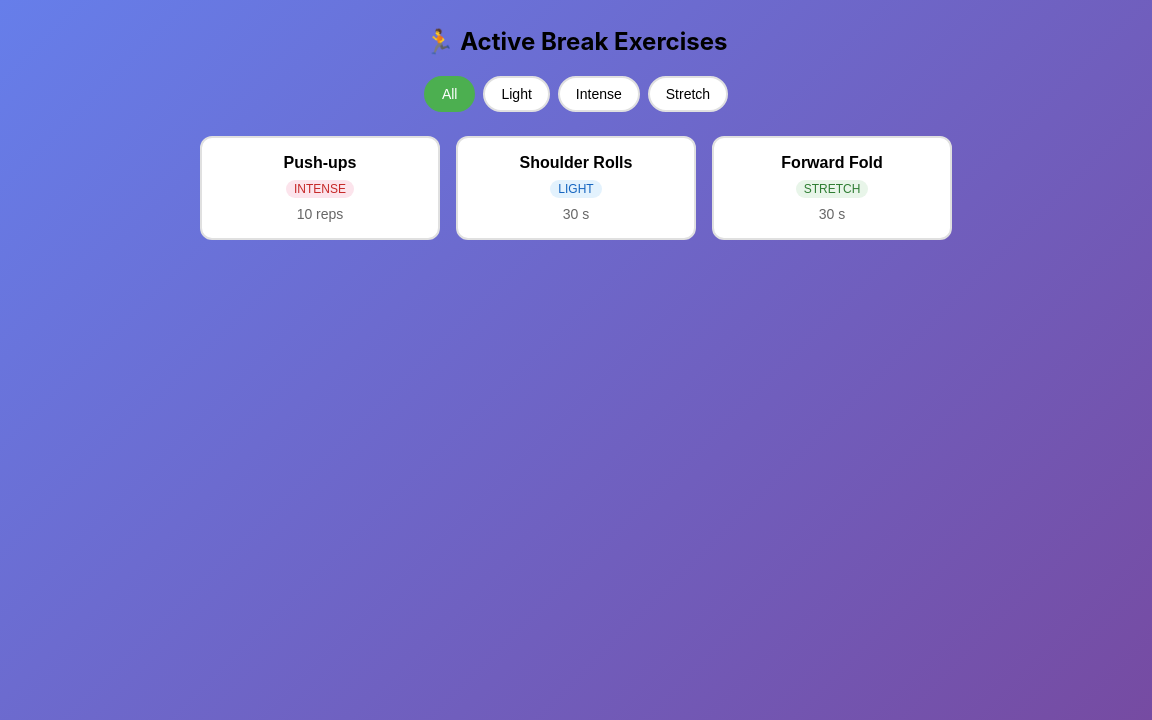
ExerciseLibrary › renders only Stretch exercises when Stretch filter active
Click the button with aria-label "filter by stretch".
click(688, 94)  # box left=648, top=76, right=728, bottom=112
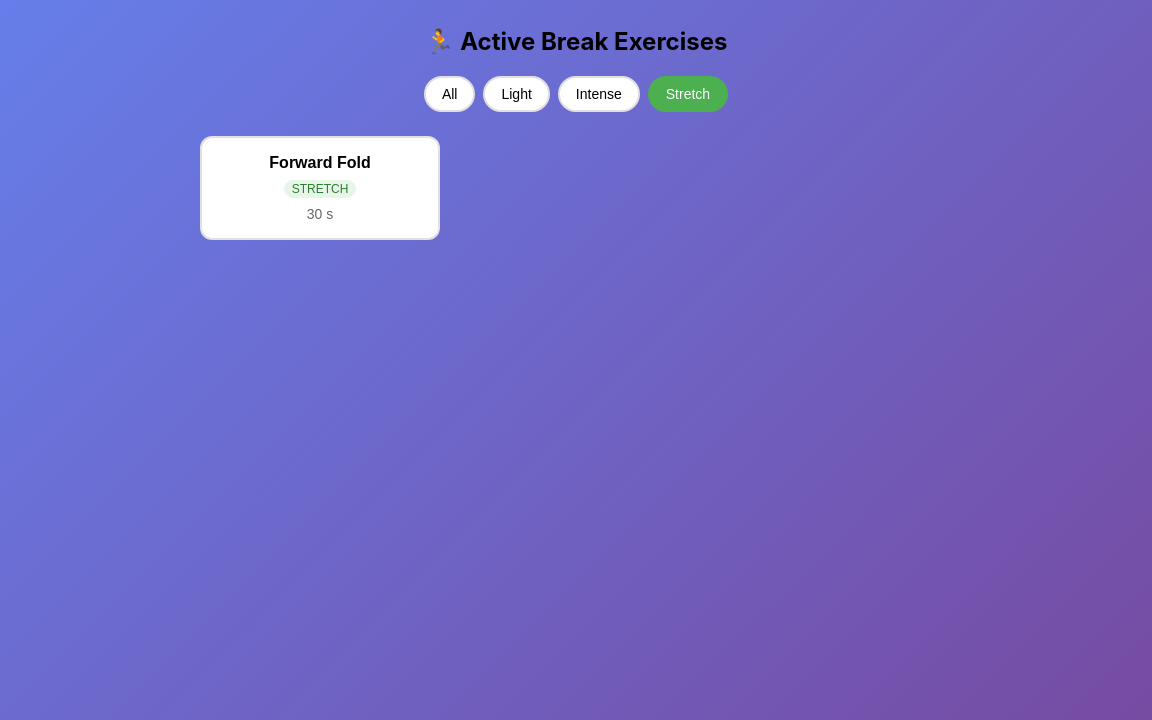
Expected: the text "Forward Fold" is shown, left=269, top=154, right=371, bottom=172
Now the button "Push-ups" is gone
